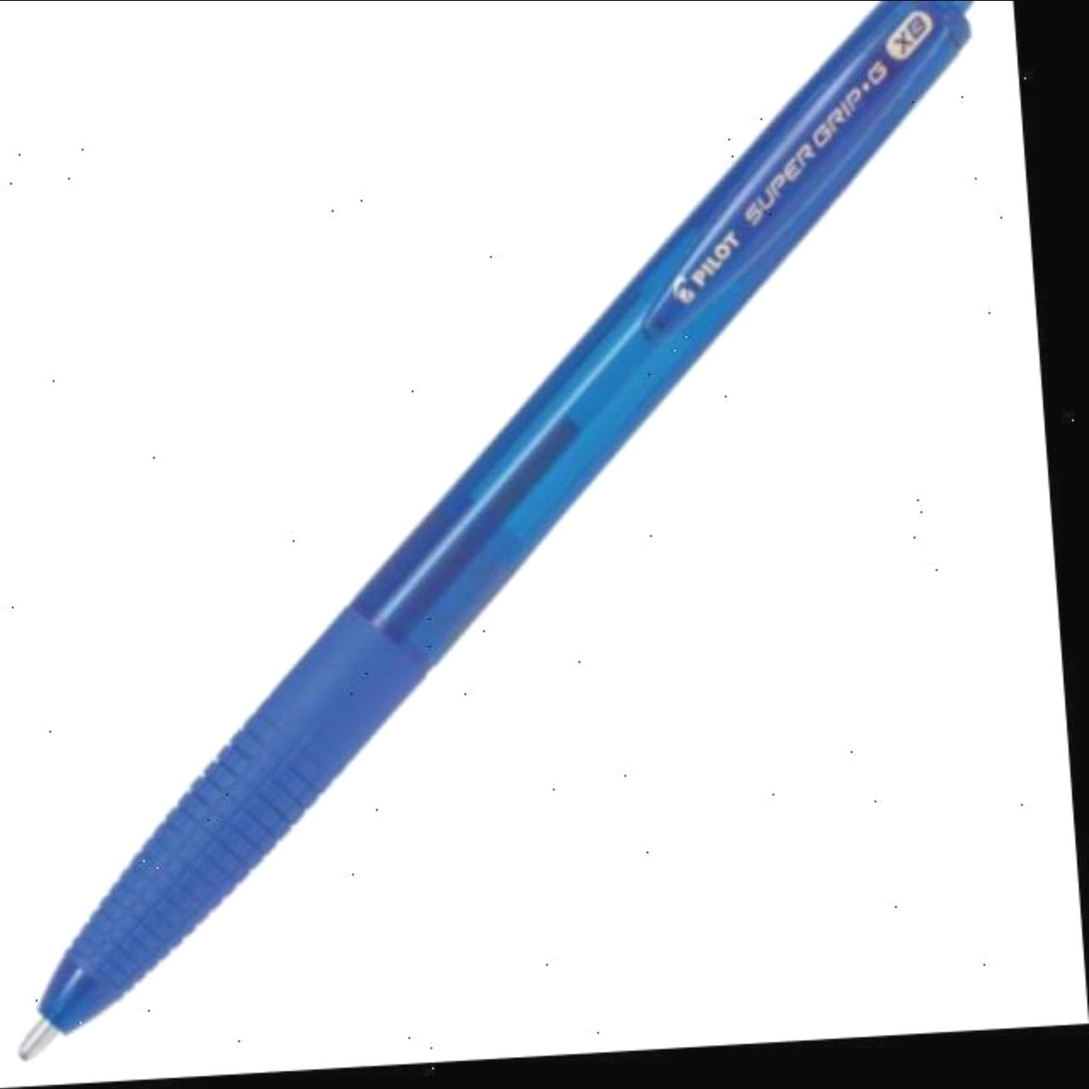pen: (0, 0, 1057, 1065)
